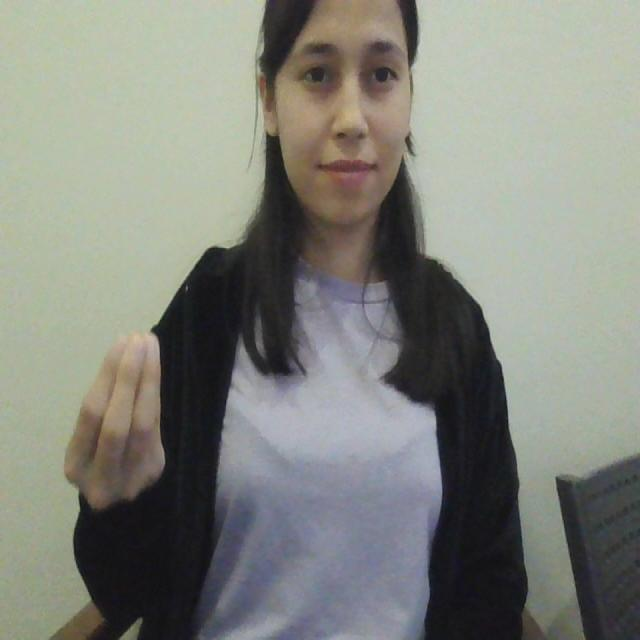iyi: (57, 328, 169, 514)
